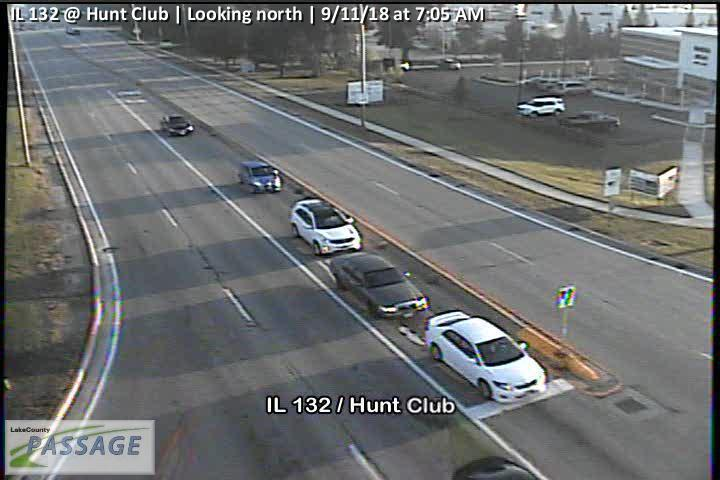SUV: (291, 196, 362, 256), (237, 160, 282, 193), (517, 95, 566, 118), (550, 80, 591, 95), (534, 76, 564, 90)
Sedan: (423, 309, 546, 402), (330, 251, 429, 318), (560, 111, 620, 131), (161, 115, 194, 137)
